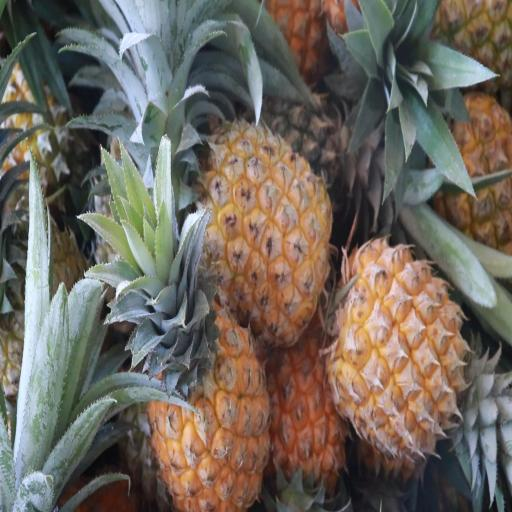Pineapple - v8 v1: (149, 247, 271, 512), (340, 242, 485, 460), (198, 125, 334, 345), (267, 337, 352, 512)
